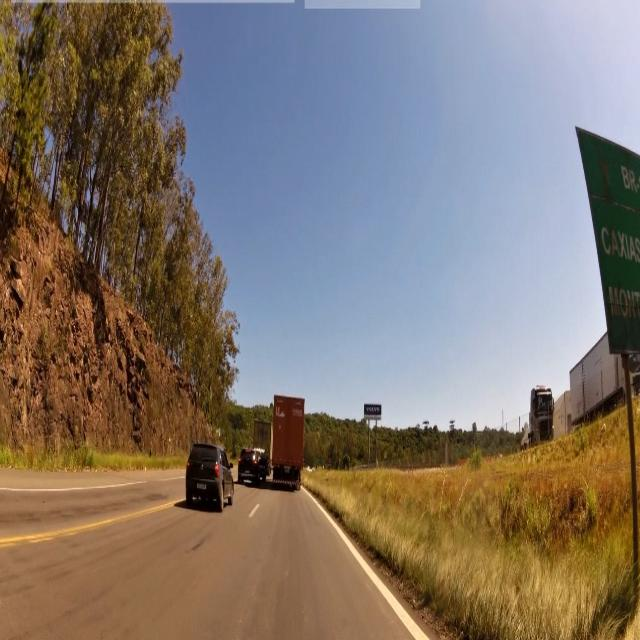I-4: (576, 129, 640, 358)
